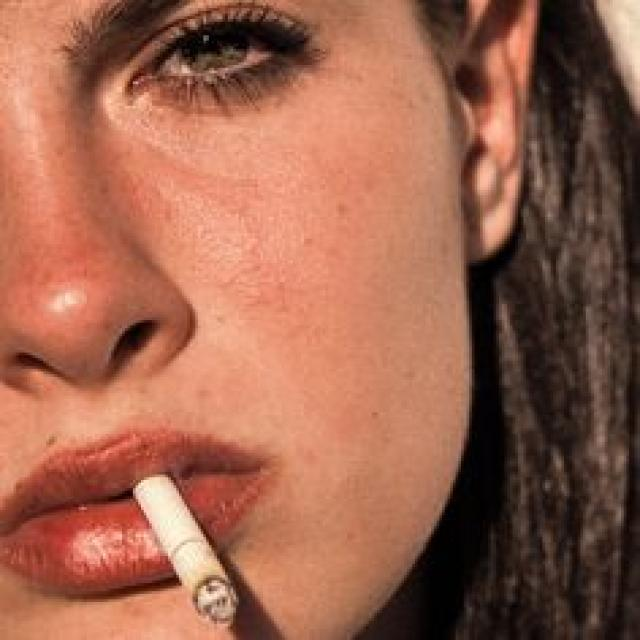rokok: (130, 464, 242, 630)
